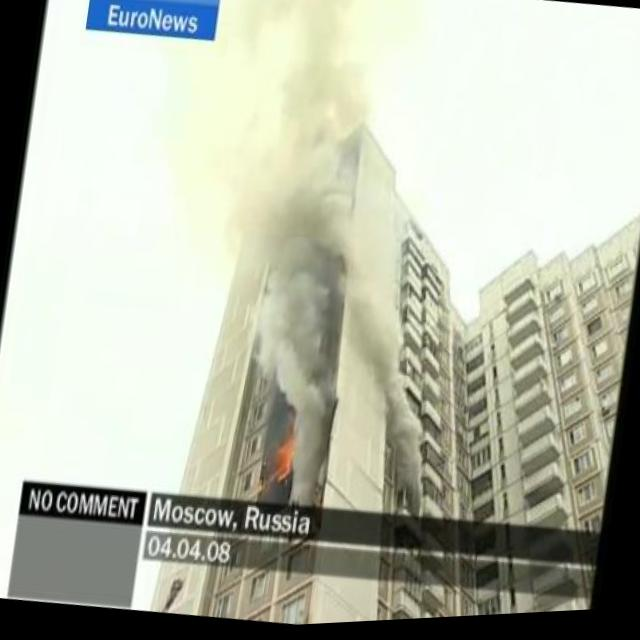fire: (272, 433, 300, 485)
